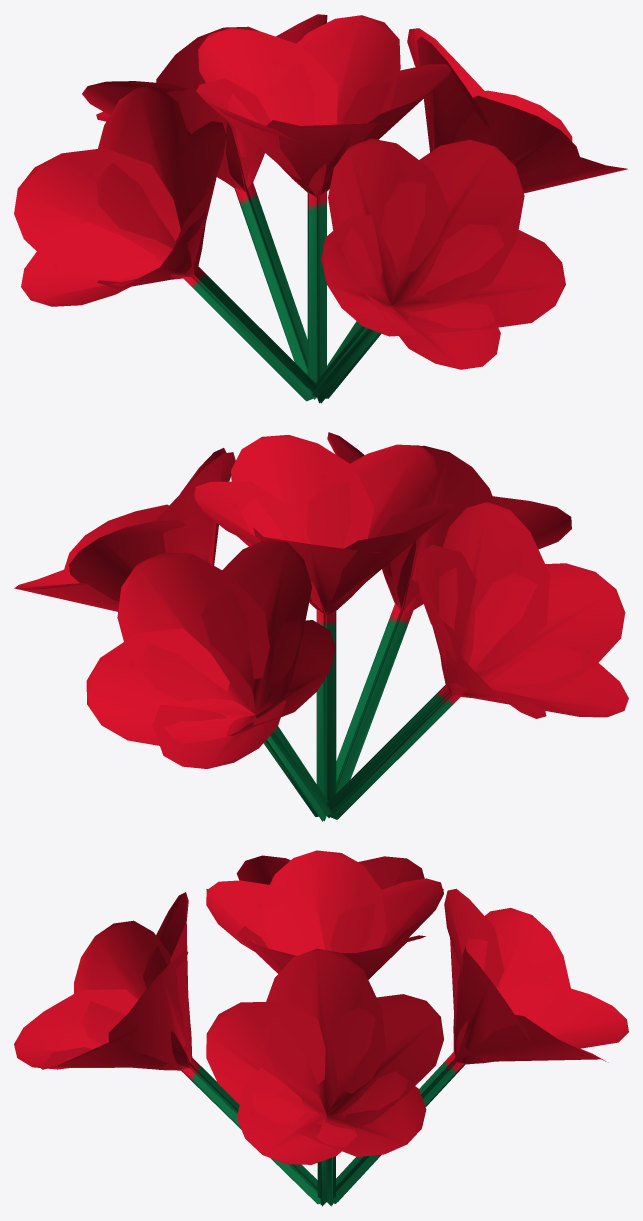
Rendered from bunga.gltf.
The picture shows the model from 3 angles, top to bottom: view 1: azimuth 30°, elevation 25°; view 2: azimuth 150°, elevation 25°; view 3: azimuth 270°, elevation 25°; orthographic projection. The views are drawn at different scales.
Parts seen in each view (by area): view 1: Rose.011, Rose.015, Rose.016, Rose.012, Rose.010, Rose.003, Rose.004, Rose.019, Rose.023, Rose.013, Rose.014, Rose.008 (+13 smaller); view 2: Rose.007, Rose.018, Rose.017, Rose.006, Rose.008, Rose.002, Rose.001, Rose.019, Rose.010, Rose.005, Rose.009, Rose.020 (+12 smaller); view 3: Rose.024, Rose.023, Rose.020, Rose, Rose.009, Rose.014, Rose.013, Rose.005, Rose.022, Rose.021, Rose.011, Rose.001 (+10 smaller).
Boxes of the visible parts, <box> form: Rose.011: <box>316,139,524,398</box>; Rose.015: <box>14,148,312,401</box>; Rose.016: <box>96,87,317,392</box>; Rose.012: <box>317,224,565,403</box>; Rose.010: <box>311,138,450,397</box>; Rose.003: <box>270,15,400,377</box>; Rose.004: <box>198,28,337,392</box>; Rose.019: <box>21,222,316,398</box>; Rose.023: <box>327,95,581,368</box>; Rose.013: <box>311,291,500,395</box>; Rose.014: <box>320,215,416,403</box>; Rose.008: <box>156,26,307,370</box>; Rose.007: <box>117,552,328,816</box>; Rose.018: <box>330,563,625,819</box>; Rose.017: <box>327,502,549,810</box>; Rose.006: <box>86,628,326,821</box>; Rose.008: <box>201,539,332,815</box>; Rose.002: <box>231,435,374,793</box>; Rose.001: <box>306,444,437,810</box>; Rose.019: <box>327,644,628,816</box>; Rose.010: <box>336,445,495,790</box>; Rose.005: <box>152,700,332,813</box>; Rose.009: <box>228,620,335,821</box>; Rose.020: <box>69,520,304,766</box>; Rose.024: <box>264,948,386,1198</box>; Rose.023: <box>206,1001,326,1206</box>; Rose.020: <box>327,994,443,1206</box>; Rose: <box>264,850,386,955</box>; Rose.009: <box>336,908,570,1201</box>; Rose.014: <box>74,920,317,1195</box>; Rose.013: <box>14,989,320,1203</box>; Rose.005: <box>333,983,628,1203</box>; Rose.022: <box>236,1068,357,1205</box>; Rose.021: <box>295,1071,426,1204</box>; Rose.011: <box>108,951,319,1204</box>; Rose.001: <box>206,880,325,952</box>.
Bounding box in the file's own units: 6.87 × 3.82 × 7.02.
20 materials, 20 textured.
